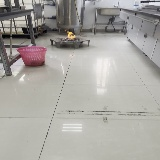fire: (65, 28, 75, 39)
